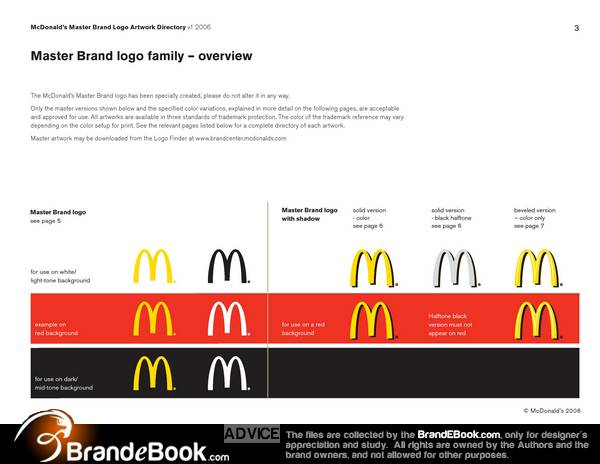mcdonalds: (505, 293, 561, 340), (422, 244, 479, 286), (511, 243, 564, 287), (504, 242, 556, 286), (343, 248, 396, 290), (192, 246, 249, 284), (124, 350, 176, 391), (511, 243, 559, 286), (430, 244, 479, 286), (344, 300, 393, 342), (200, 295, 246, 337), (128, 296, 172, 338), (202, 351, 249, 390), (128, 247, 172, 286), (205, 246, 249, 284), (127, 253, 176, 286), (128, 247, 177, 279)
